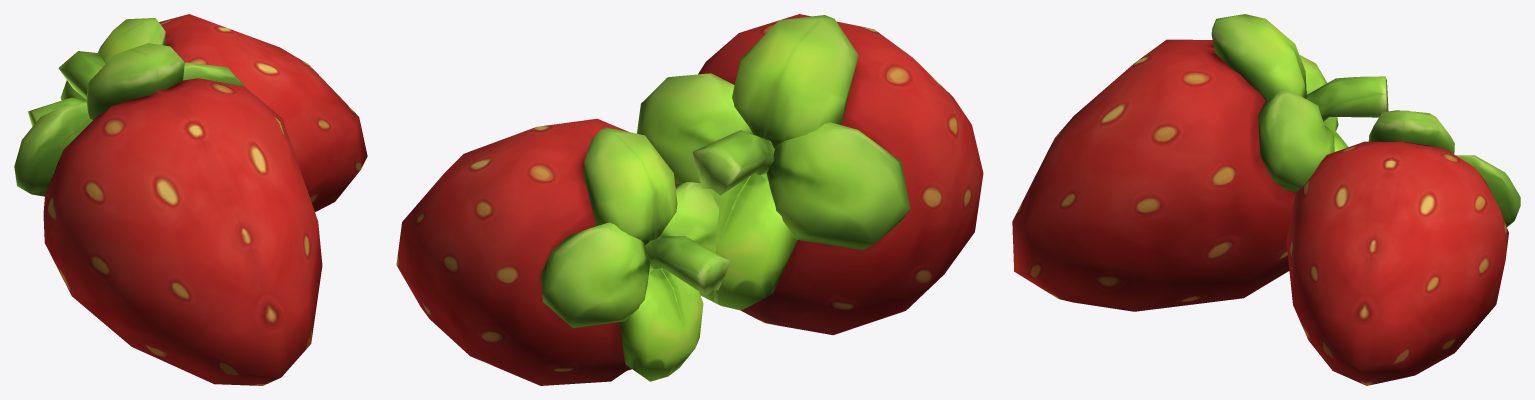
Rendered from straw.fbx.
3 renders of one model, left to right at view 1: azimuth 30°, elevation 25°; view 2: azimuth 150°, elevation 25°; view 3: azimuth 270°, elevation 25°, orthographic. The views are drawn at different scales.
Parts seen in each view (by area): view 1: straw1, straw2; view 2: straw1, straw2; view 3: straw1, straw2.
Part boxes in pixels (left/top/right/bottom): straw1: left=14, top=43, right=322, bottom=385; straw2: left=28, top=14, right=367, bottom=211; straw1: left=637, top=14, right=983, bottom=335; straw2: left=396, top=118, right=731, bottom=385; straw1: left=1012, top=14, right=1388, bottom=311; straw2: left=1286, top=110, right=1520, bottom=385.
Size of the model in its own units: 3.23 by 2.23 by 3.72.
